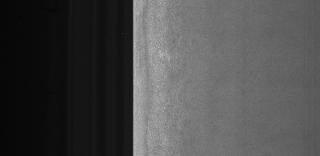silk spot: (157, 40, 195, 136)
